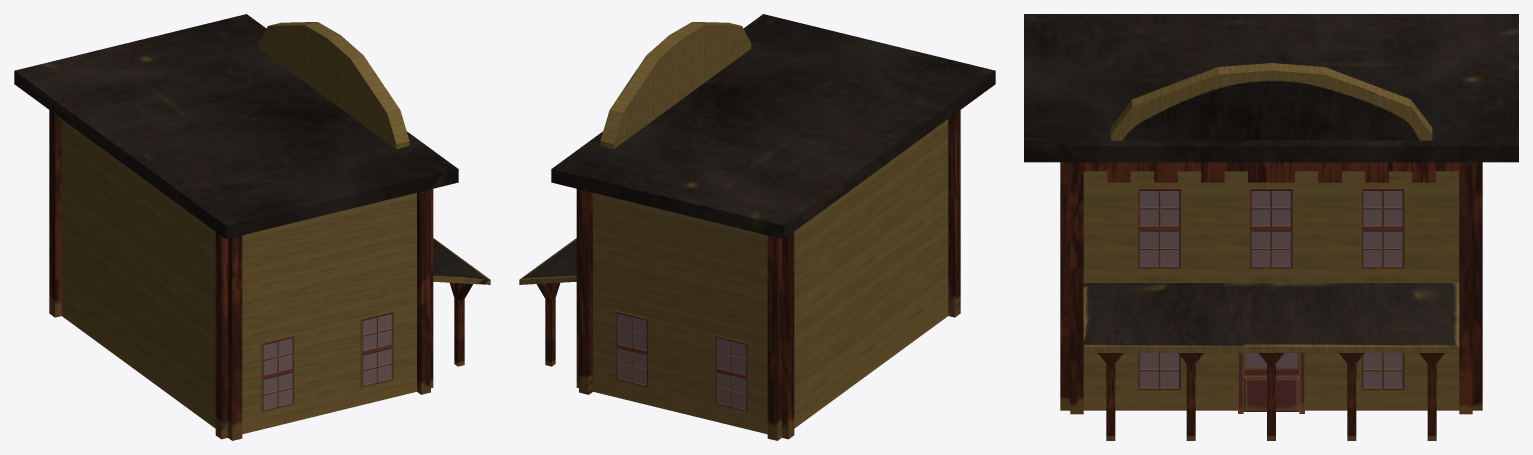
The model's file is r_saloon_yellow.fbx.
3 views of the same model, side by side, from view 1: azimuth 30°, elevation 25°; view 2: azimuth 150°, elevation 25°; view 3: azimuth 270°, elevation 25° (orthographic). The views are drawn at different scales.
Parts seen in each view (by area): view 1: Saloon; view 2: Saloon; view 3: Saloon.
Part boxes in pixels (box(x1,y1,x2,y2)): Saloon: box(14, 14, 490, 440); Saloon: box(519, 14, 995, 440); Saloon: box(1024, 14, 1518, 440).
Size of the model in its own units: 876 by 840 by 1108.
Materials: 1 (1 with a texture image).
